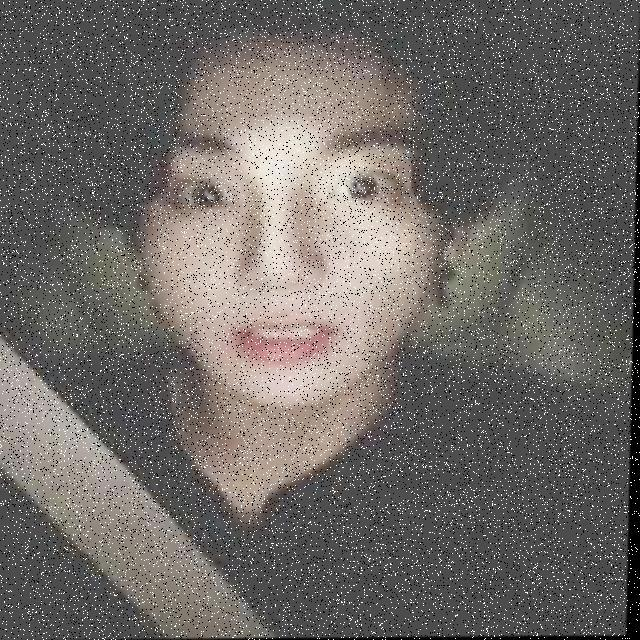seatbelt: (0, 321, 536, 640)
